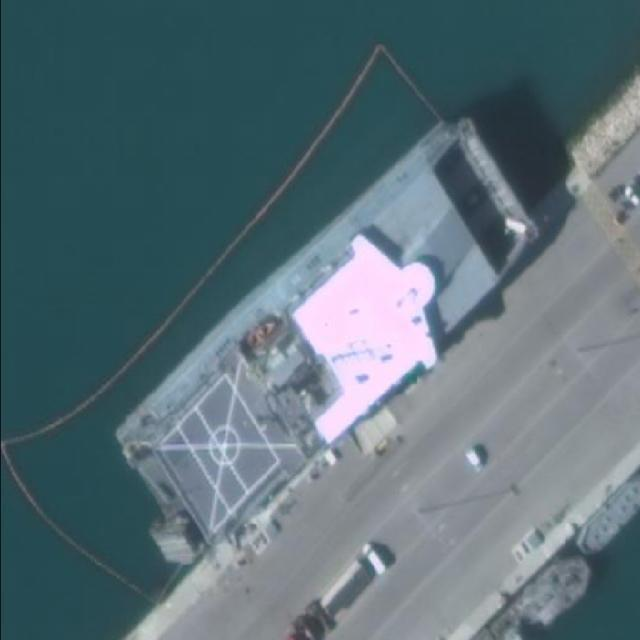Auxiliary Ships: (65, 98, 578, 582)
